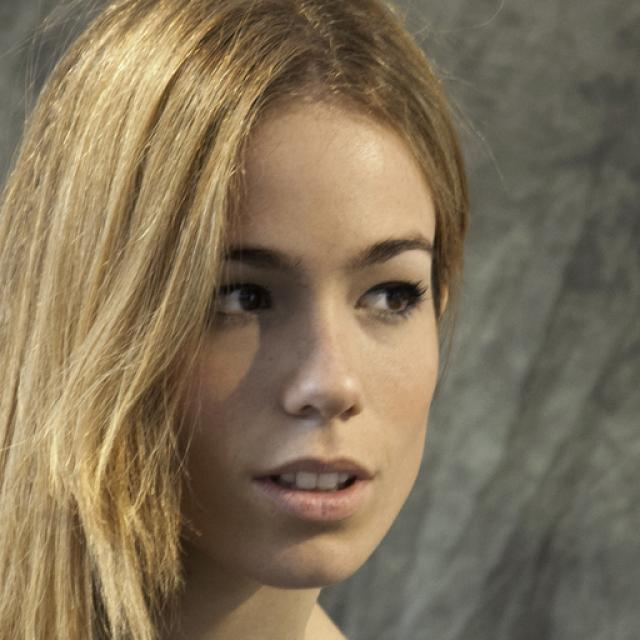surprise: (160, 106, 440, 589)
